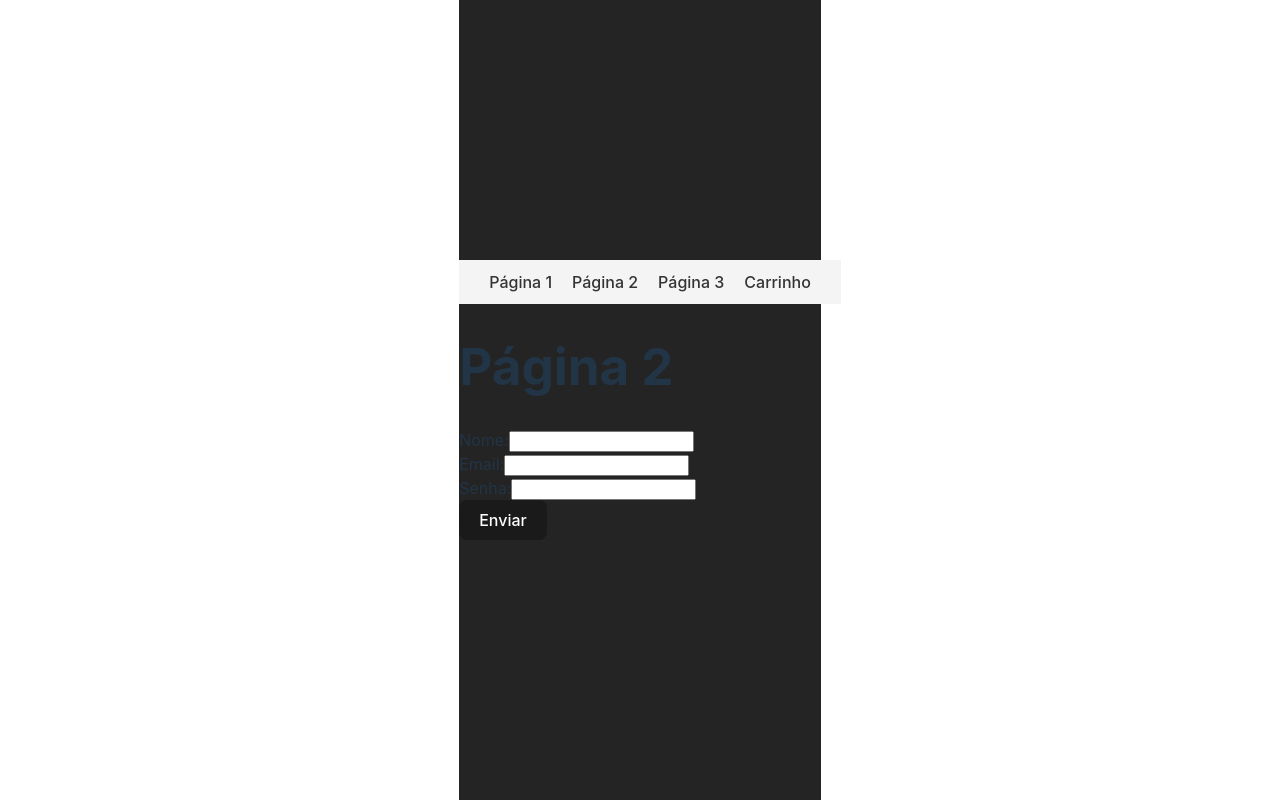
Test: Teste do Formulário - Página 2 › Deve preencher o formulário com valores esperados e exibir modal de sucesso
This screenshot has width=1280, height=800.
Preencher o campo Nome
In the field with test id "nome-input": {"x": 602, "y": 443} [509,432,694,453], type "João Silva"
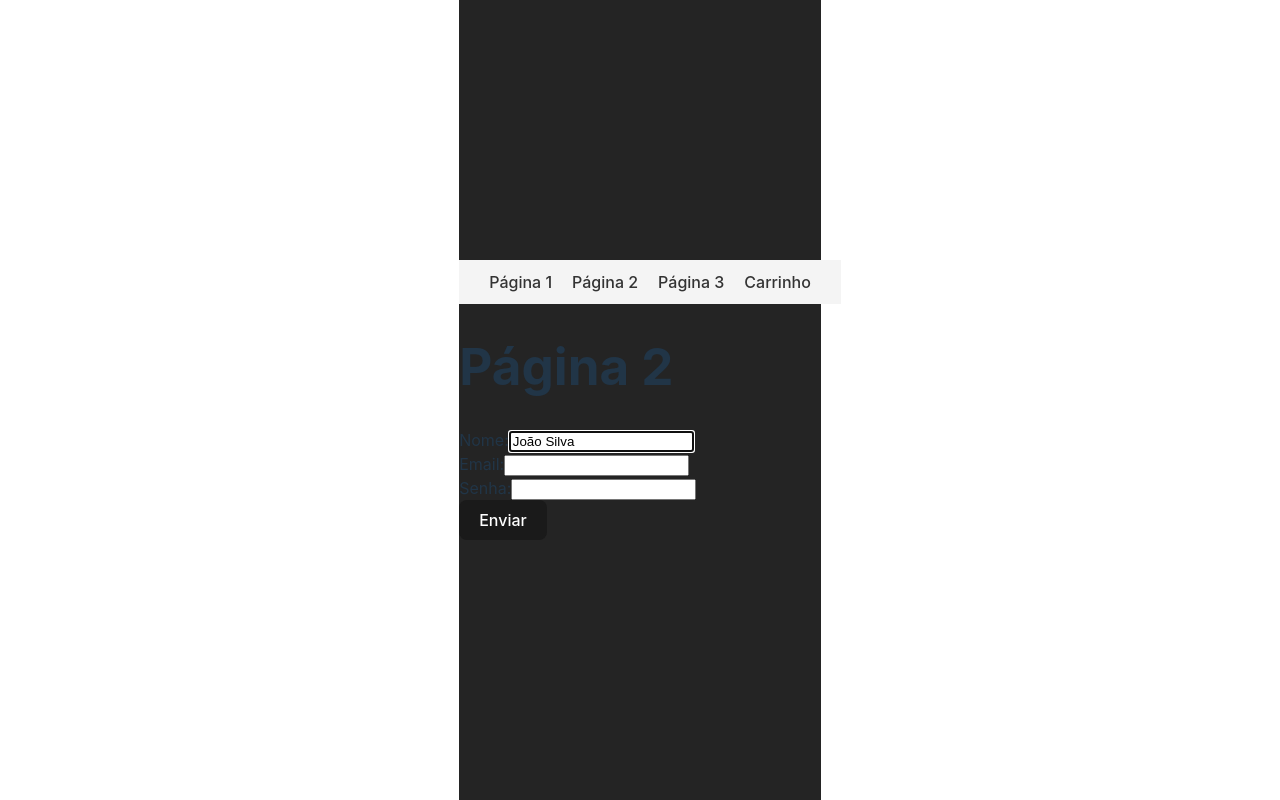
Preencher o campo Email
In the field with test id "email-input": {"x": 597, "y": 467} [504,456,689,477], type "joao.silva@example.com"
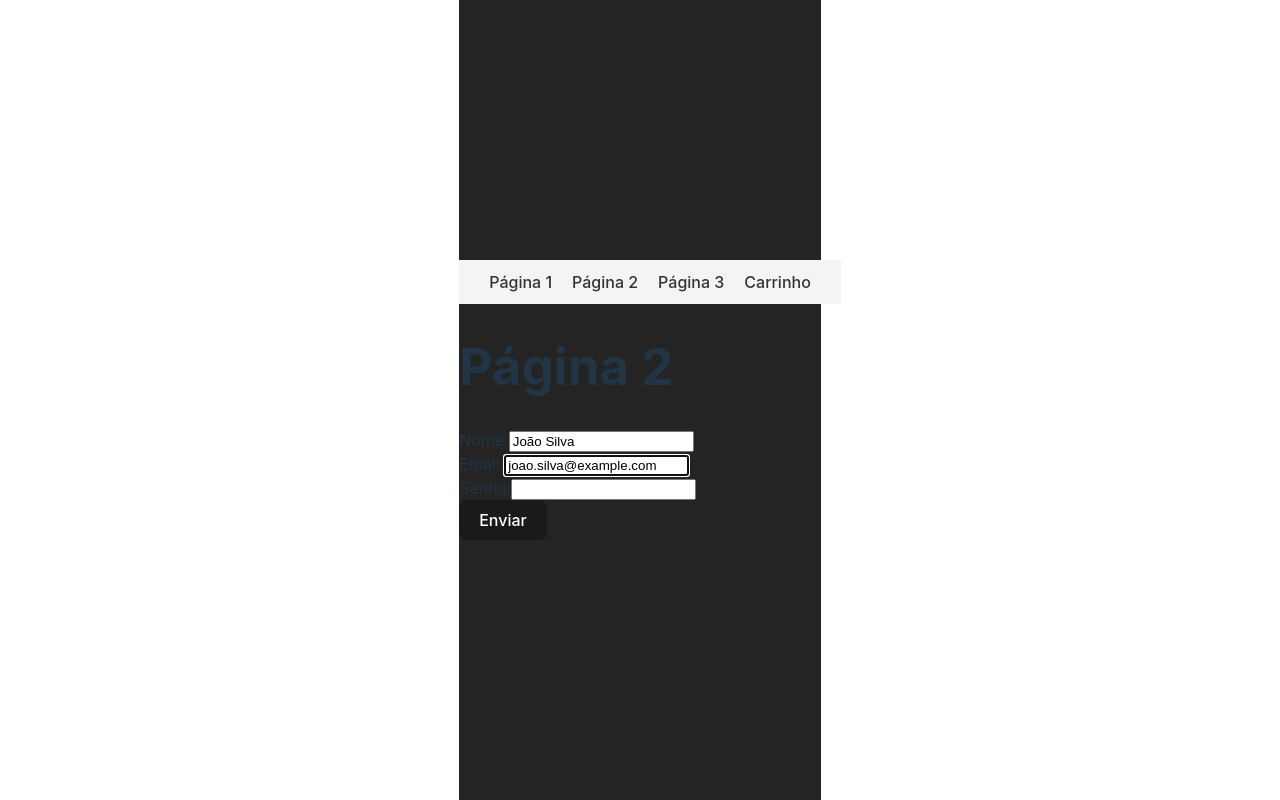
Preencher o campo Senha
In the password field with test id "senha-input": {"x": 604, "y": 491} [511,480,696,501], type "senha123"
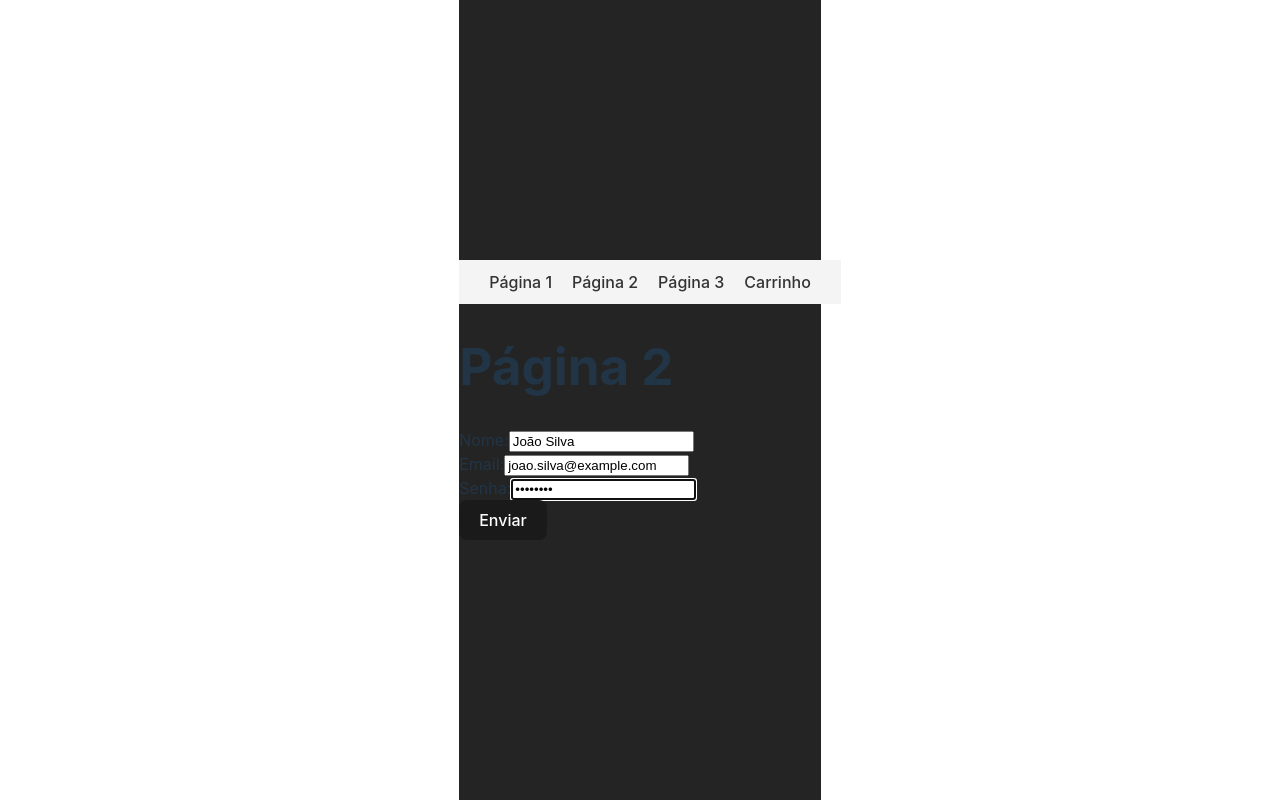
Clicar no botão Enviar
Click the button with test id "submit-button": {"x": 503, "y": 521} [459,501,547,541]
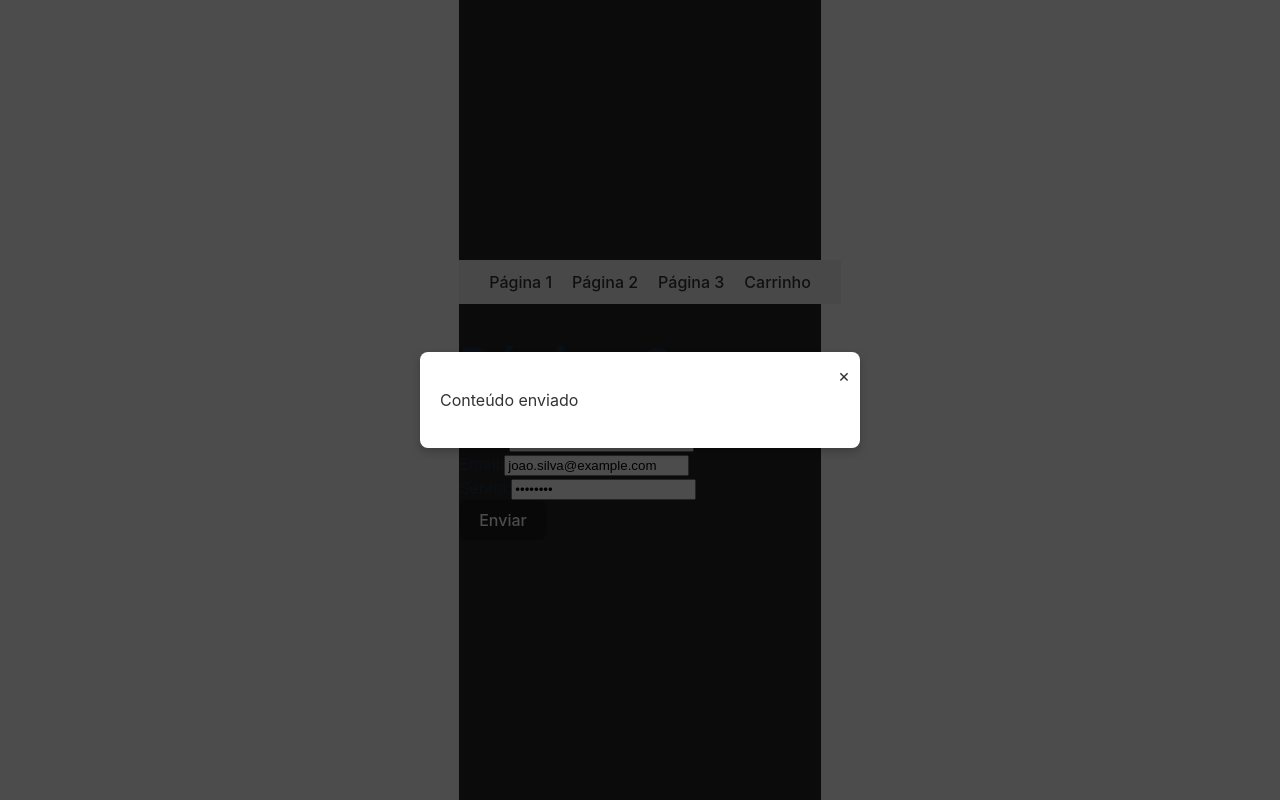
Expected: the element with class "modal" is shown
Expected: the element with class "modal-content" is shown, [420,352,860,448]
Expected: the text "Conteúdo enviado" is shown, [440,390,578,410]
